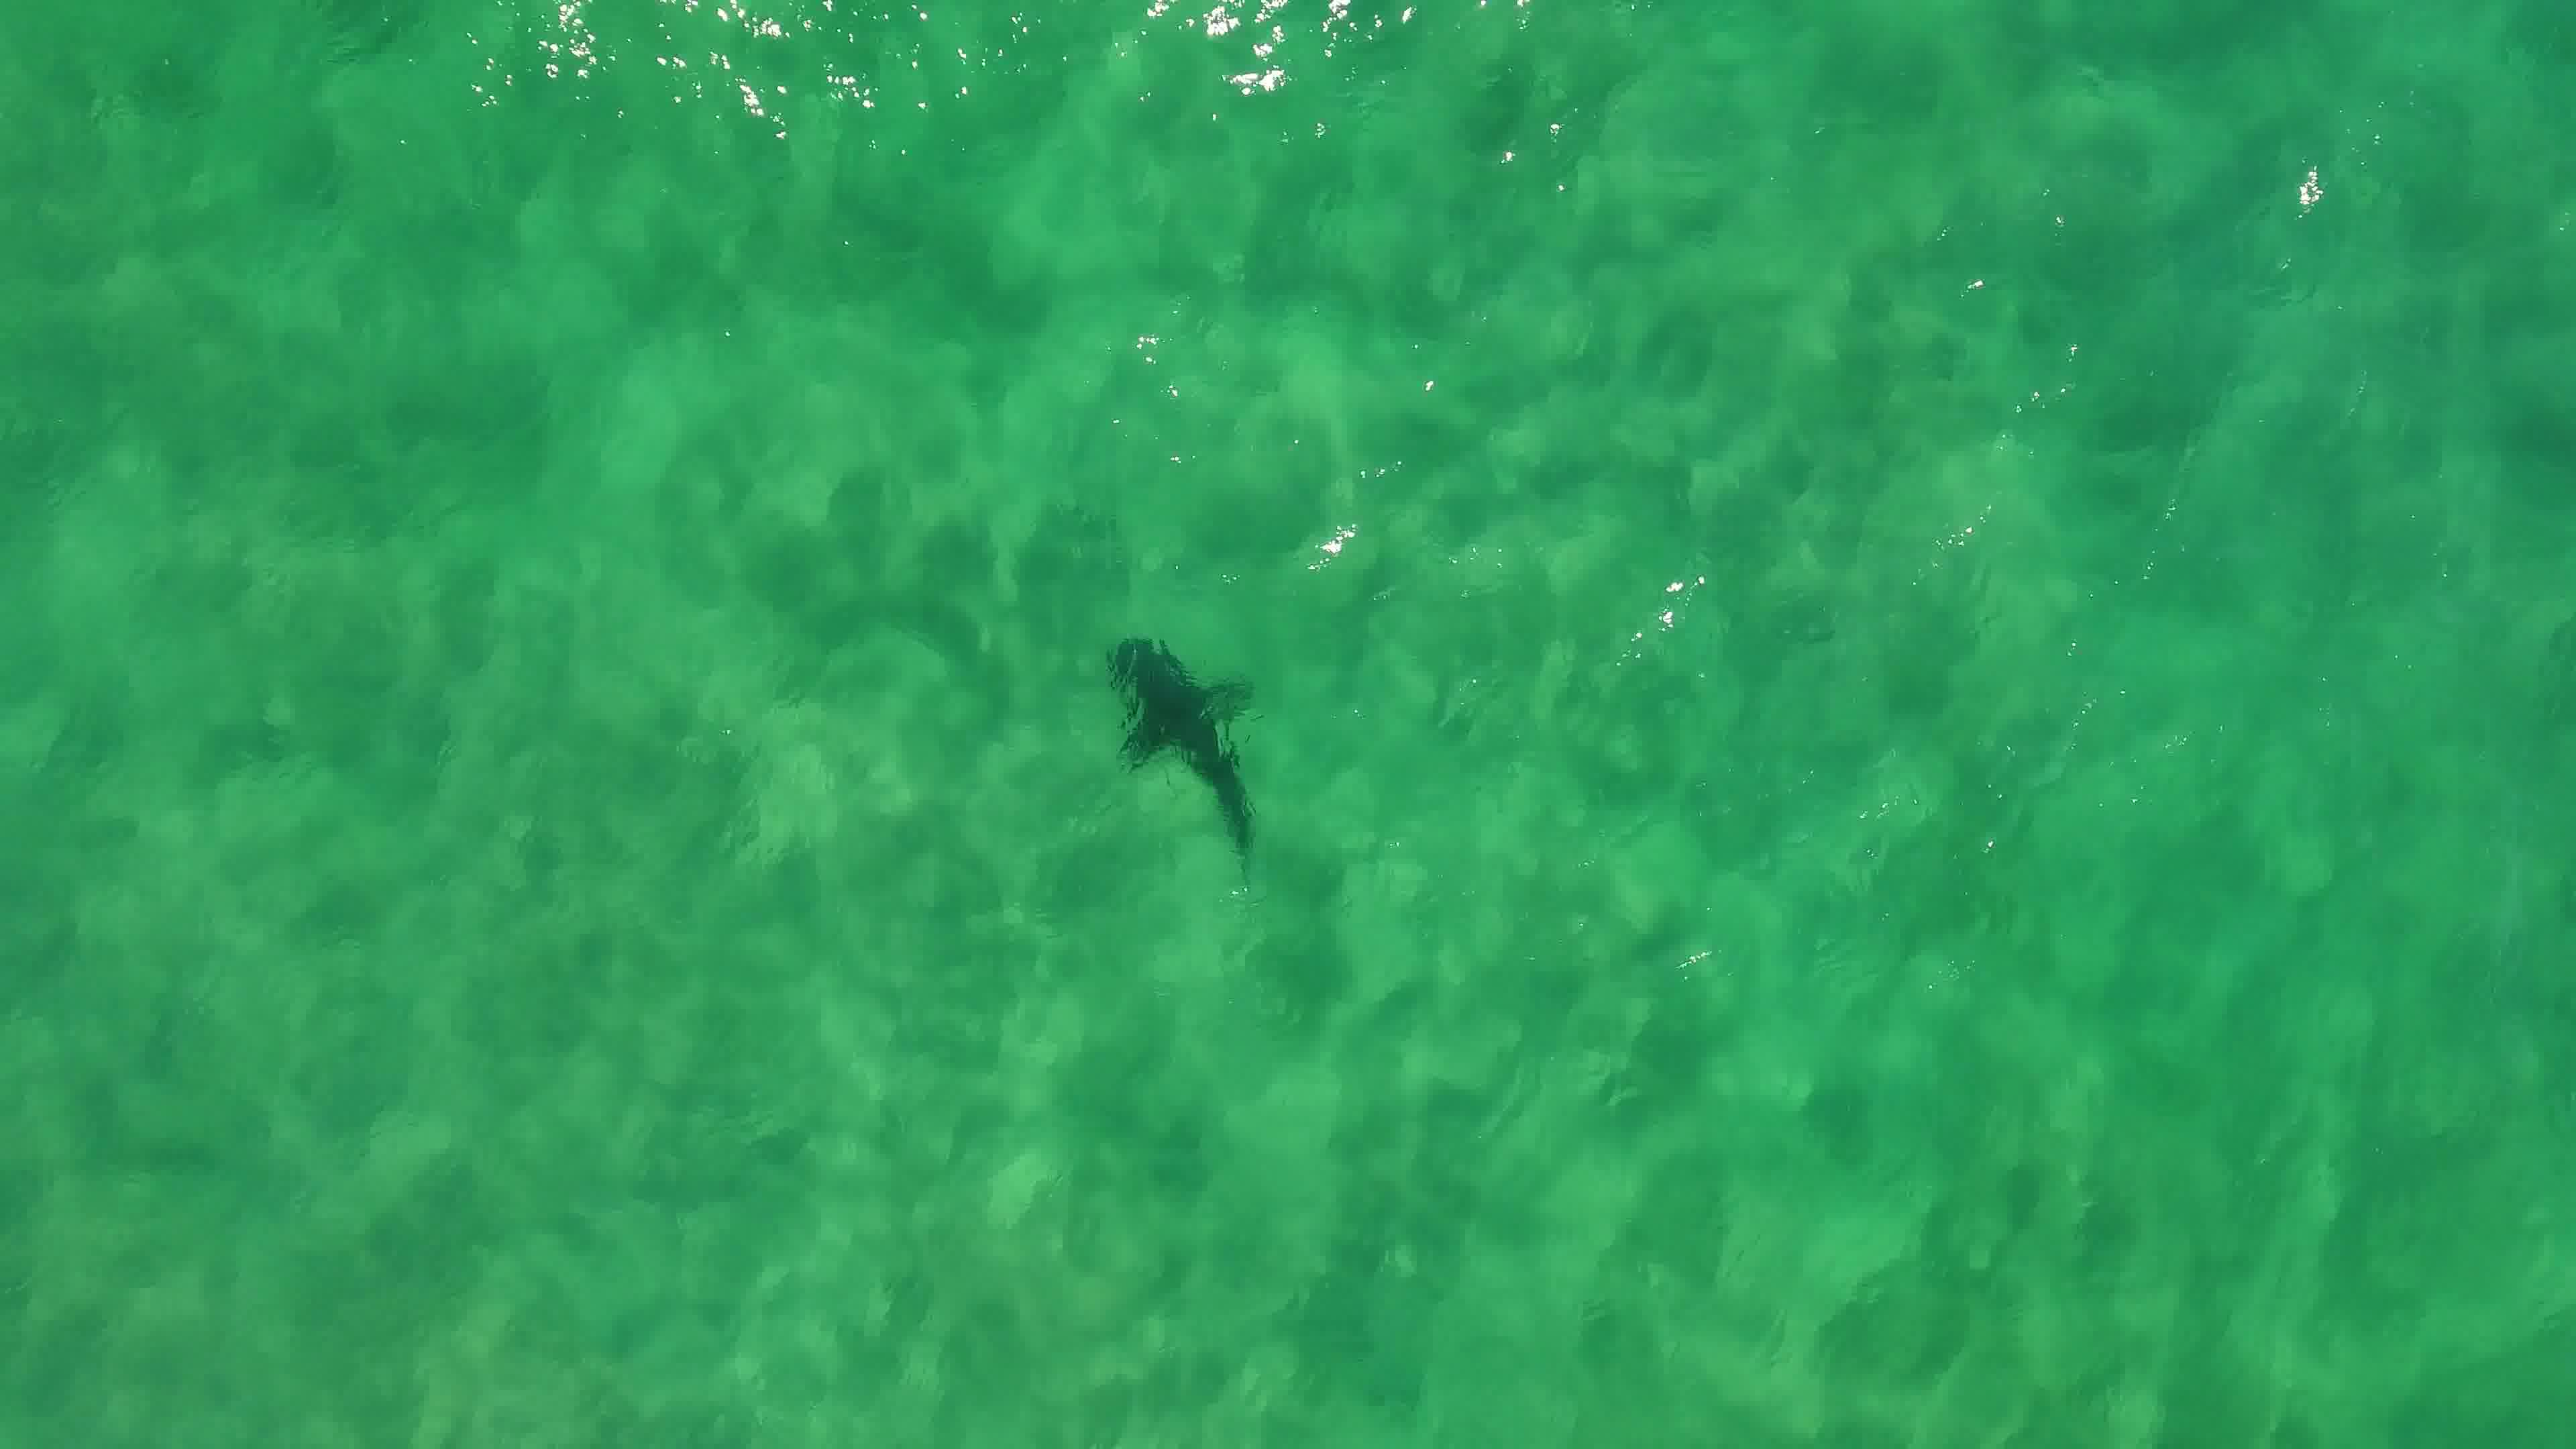shark: (1095, 628, 1270, 872)
